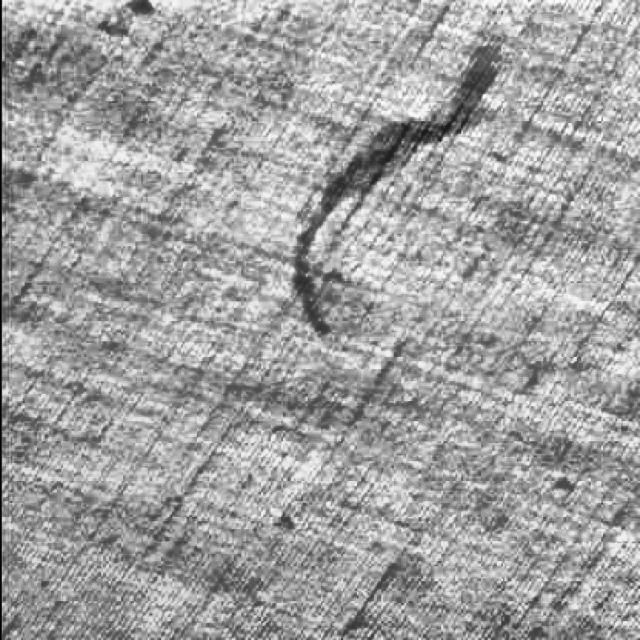oil_spot: (277, 31, 523, 346)
